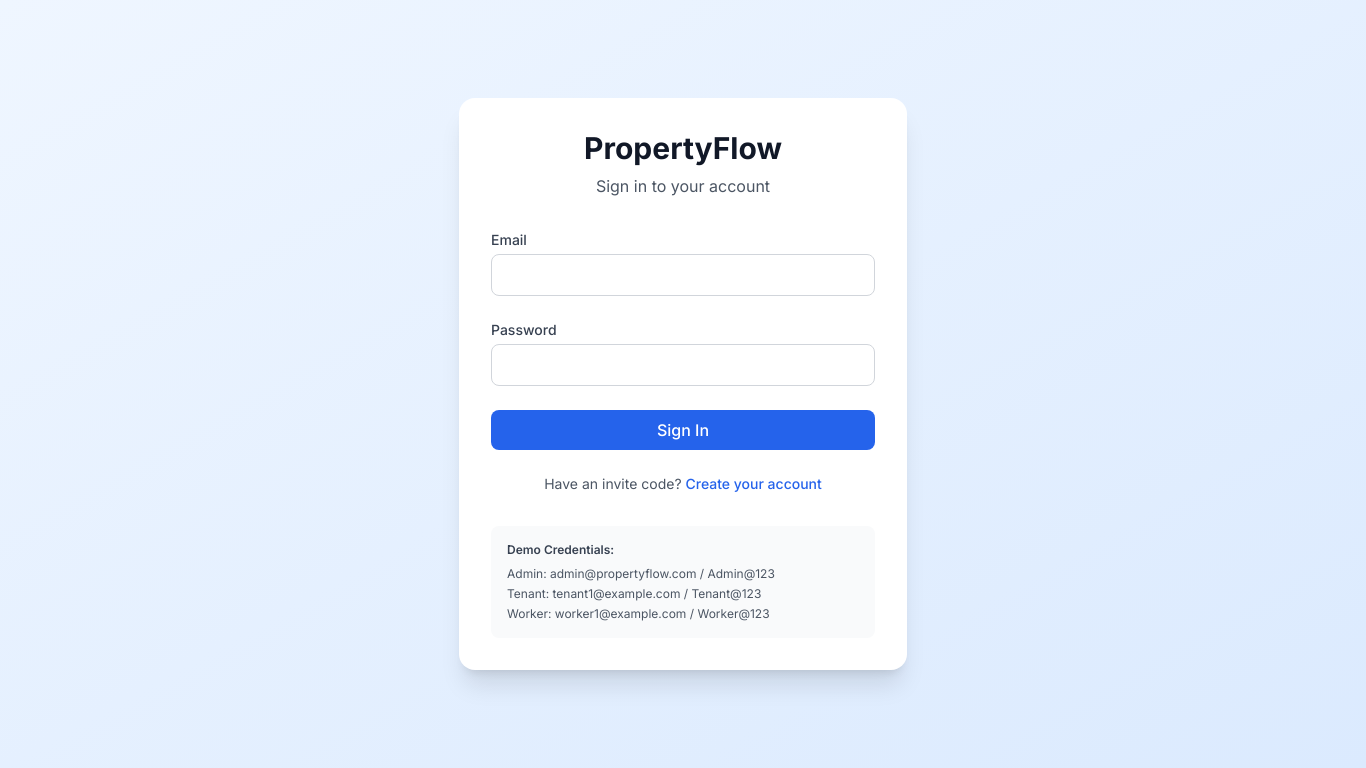
it: Login page › after a wrong password shows the 401 message and does not reload the page
Type "admin@propertyflow.com" into the field labelled "Email". click: (683, 275)
box: [491,254,875,296]
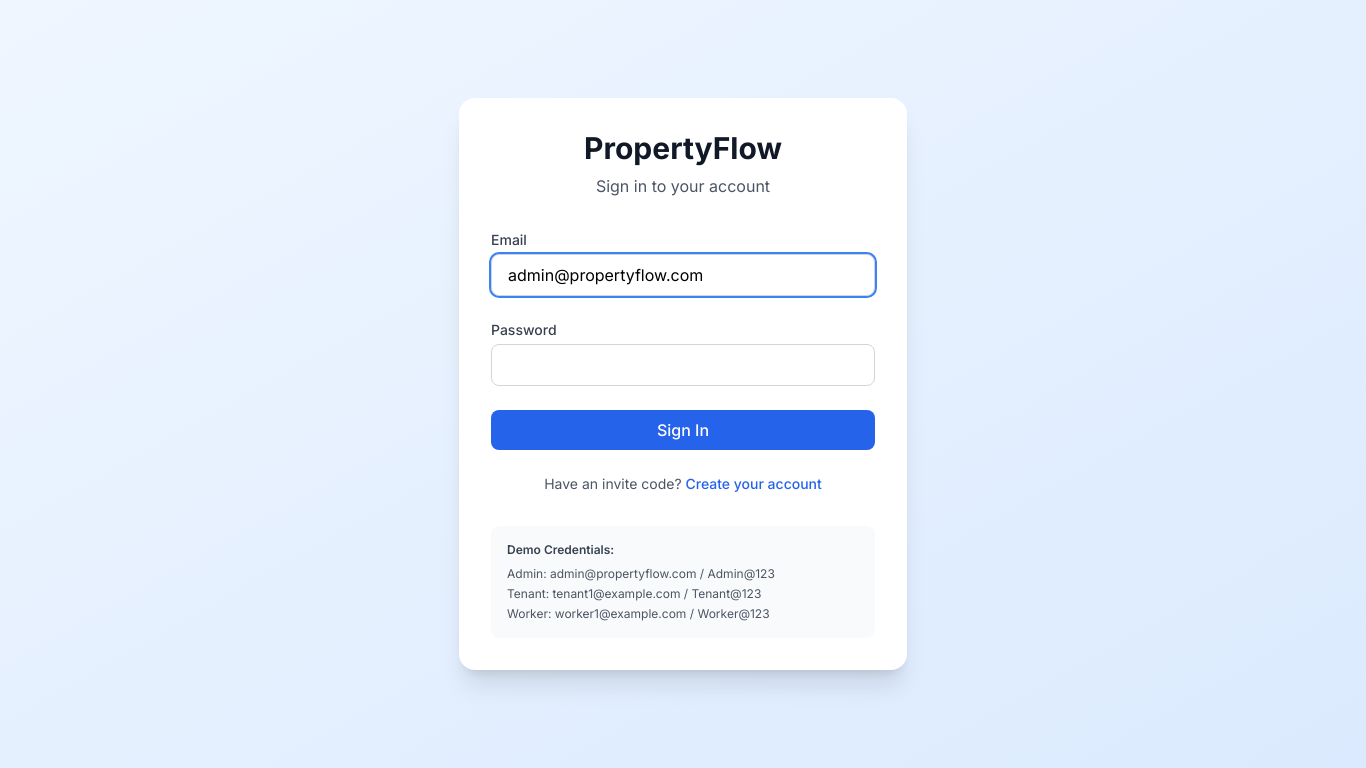
Type "Wrong@Pass1" into the password field labelled "Password". click: (683, 365)
box: [491,344,875,386]
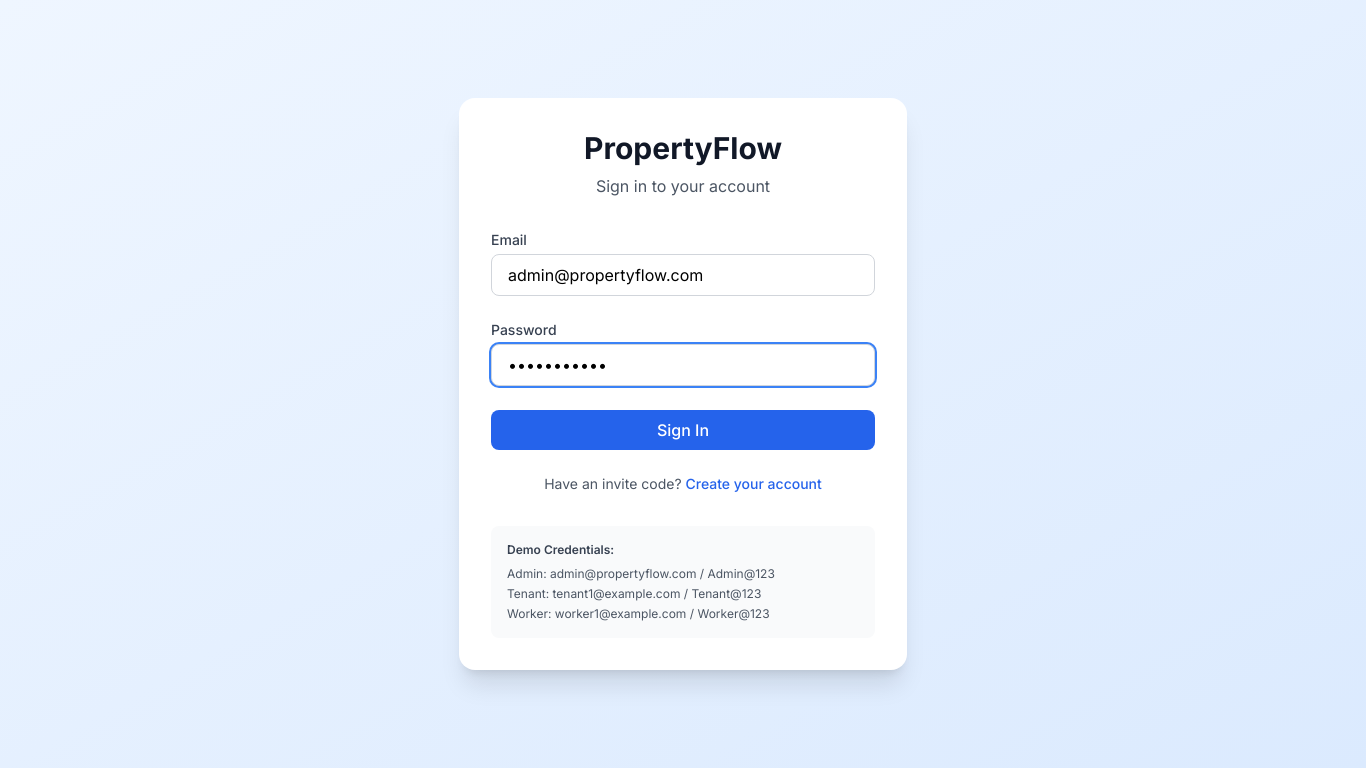
Click the button "Sign In". click: (683, 430)
box: [491,410,875,450]
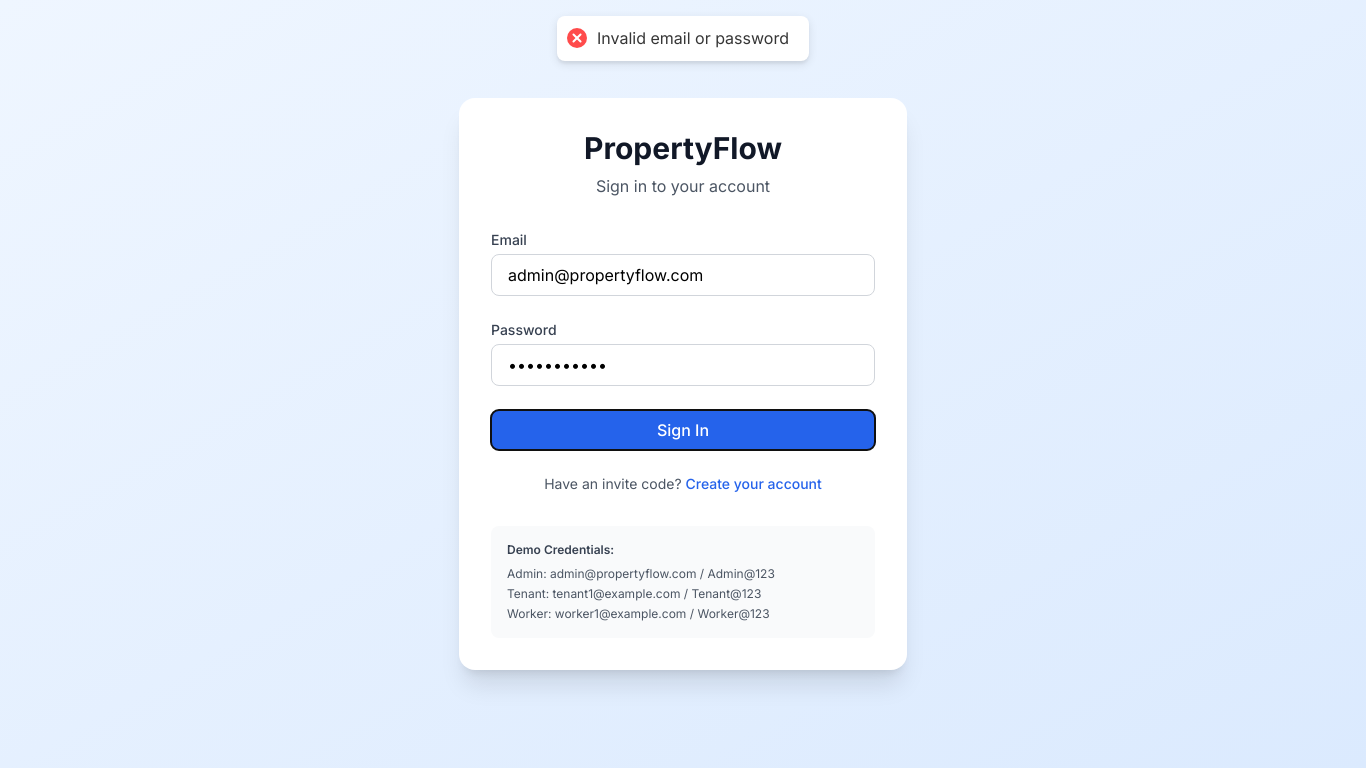
Now the text "Invalid email or password" is shown, box [597,28,789,49]
